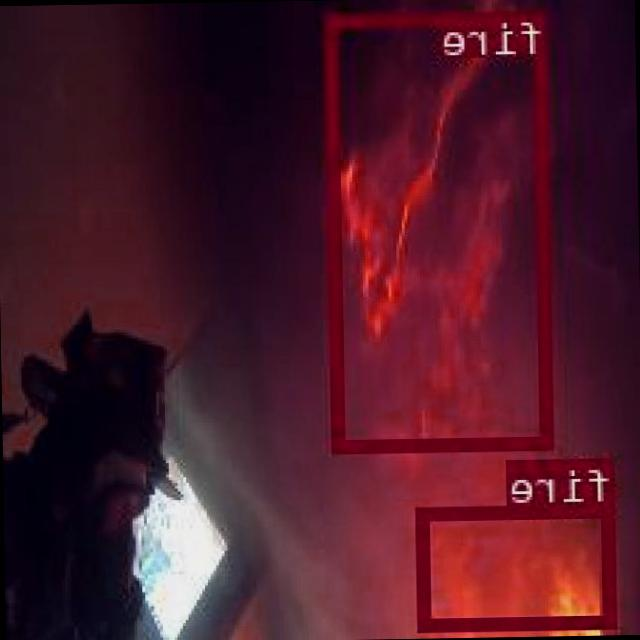fire: (328, 9, 556, 450), (420, 501, 619, 628)
